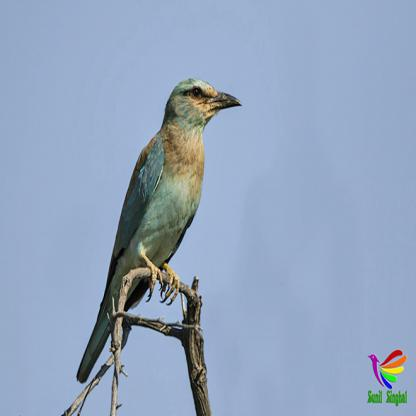Burung: (76, 76, 242, 386)
